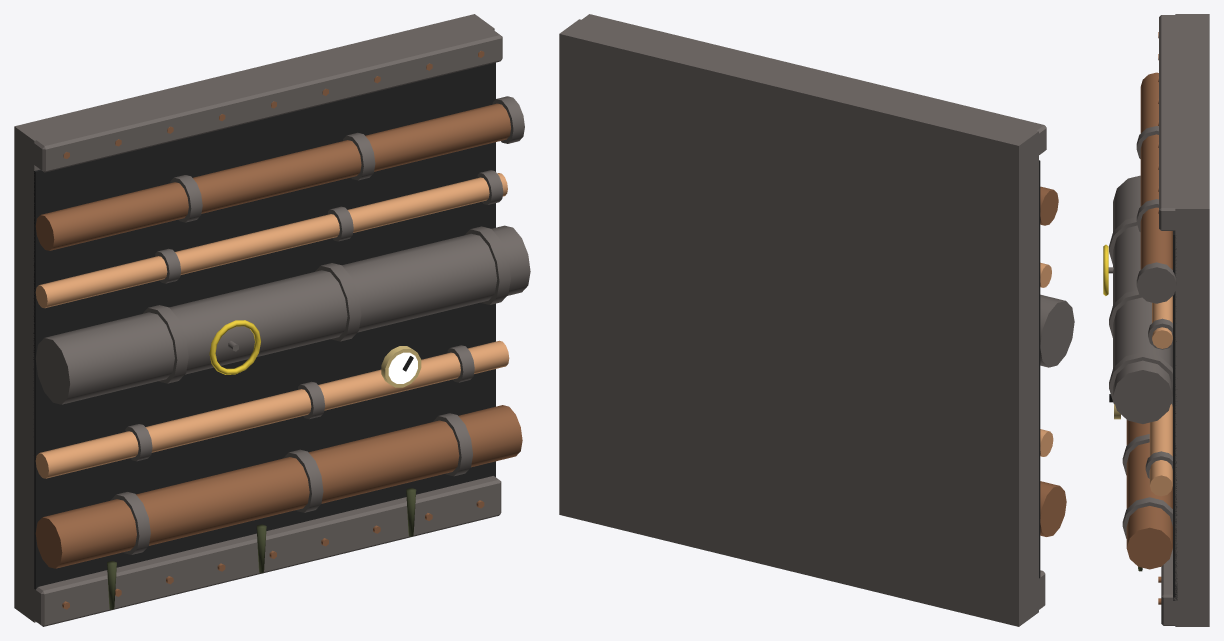
The model's file is wall_wk_pipes.glb.
3 views of the same model, side by side, from view 1: azimuth 30°, elevation 25°; view 2: azimuth 150°, elevation 25°; view 3: azimuth 270°, elevation 25° (orthographic). The views are drawn at different scales.
Parts seen in each view (by area): view 1: wall_wk_pipes; view 2: wall_wk_pipes; view 3: wall_wk_pipes.
Part boxes in pixels (x1,y1,x2,y2): wall_wk_pipes: (14, 14, 530, 626); wall_wk_pipes: (559, 14, 1074, 626); wall_wk_pipes: (1103, 14, 1209, 626).
Size of the model in its own units: 4.07 by 4 by 0.9238.
